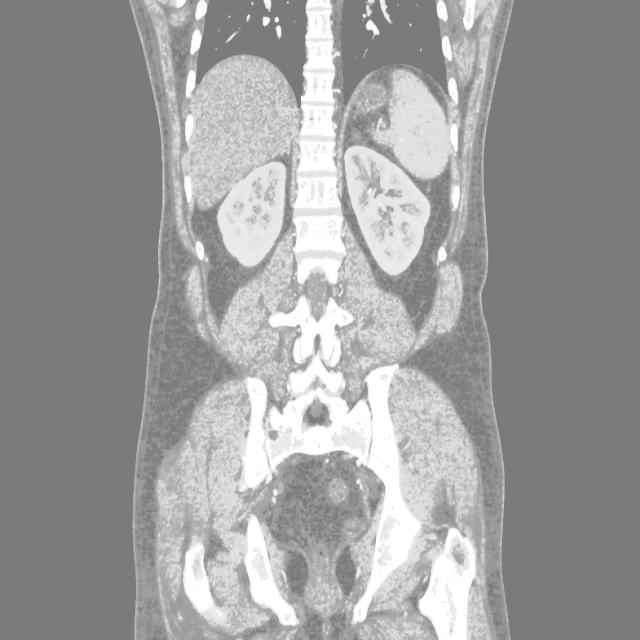NORMAL: (111, 47, 555, 603)
